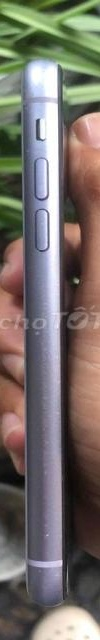scratch: (24, 267, 62, 589), (21, 72, 63, 182)
